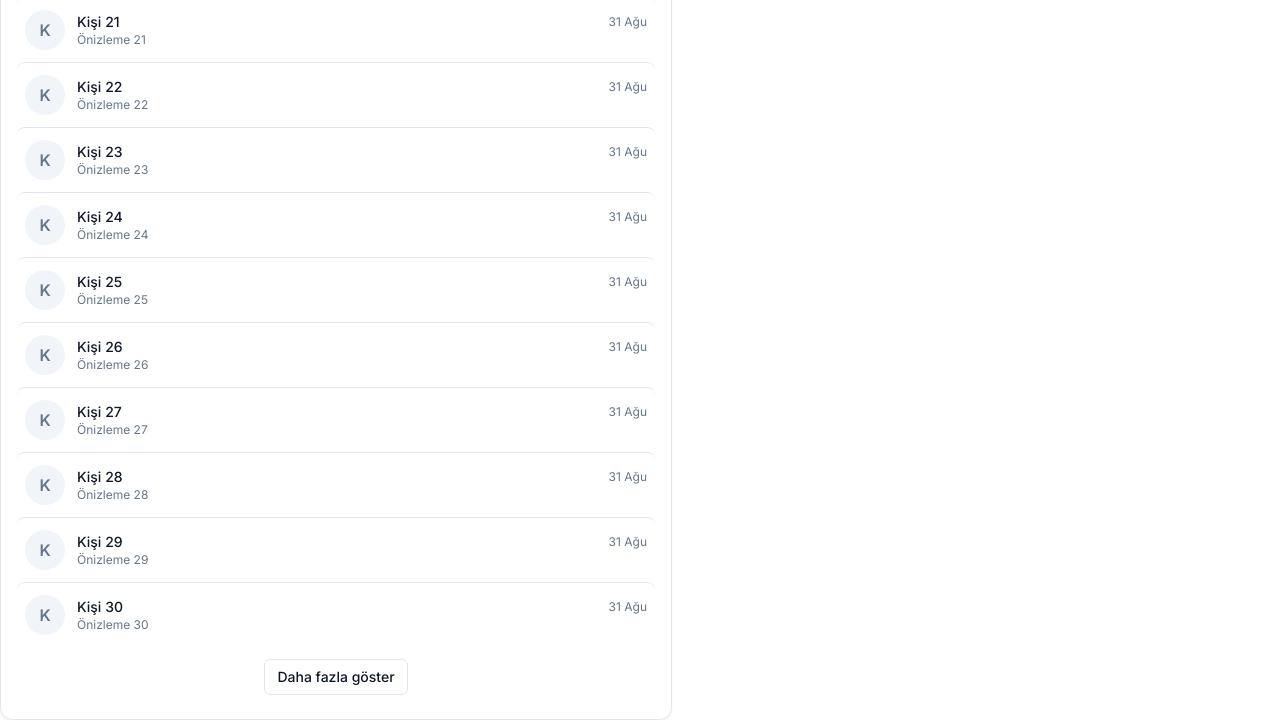
Test: Mesajlar gelen kutusu sayfalama (AJ-83) › sonraki sayfa hatasında mevcut konuşmalar kalır, Türkçe hata görünür, düğme tekrar denenebilir
The width and height of the screenshot is (1280, 720).
(page scrolled)
Click the button "Daha fazla göster": click(336, 677) [264,659,408,695]
(page scrolled)
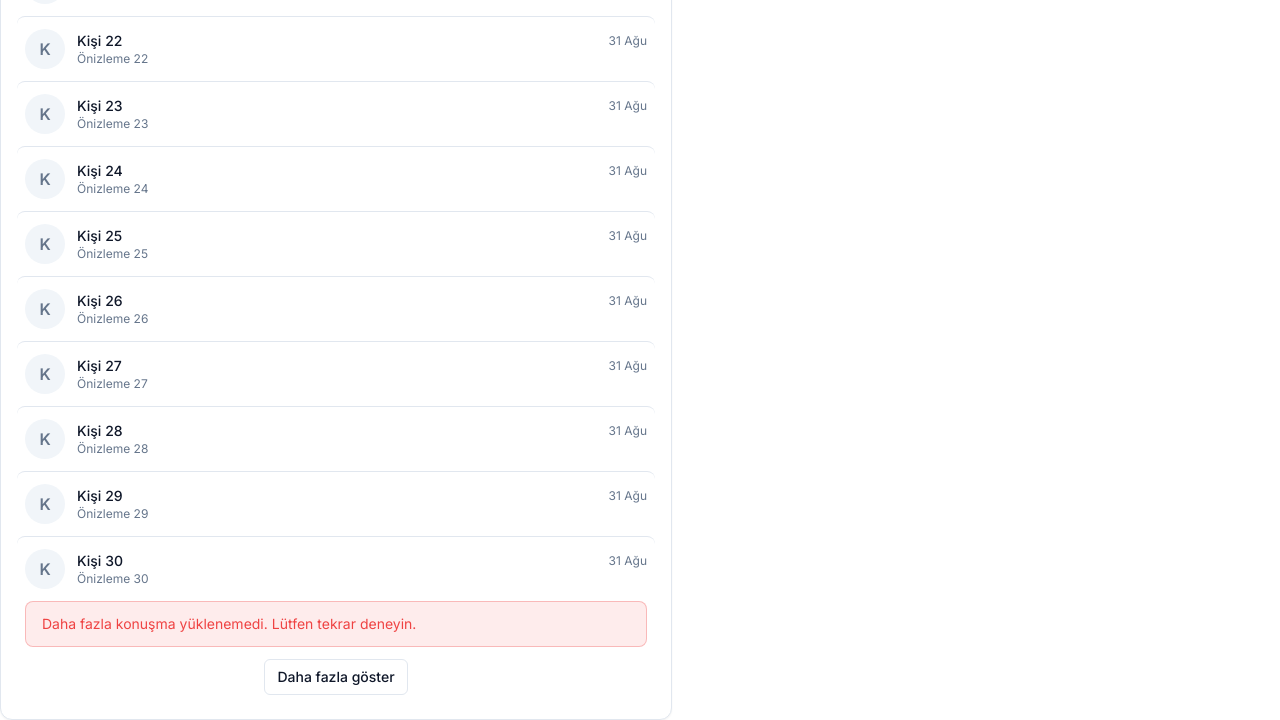
Expected: the text "Daha fazla konuşma yüklenemedi. Lütfen tekrar deneyin." is shown, [25,601,647,647]
